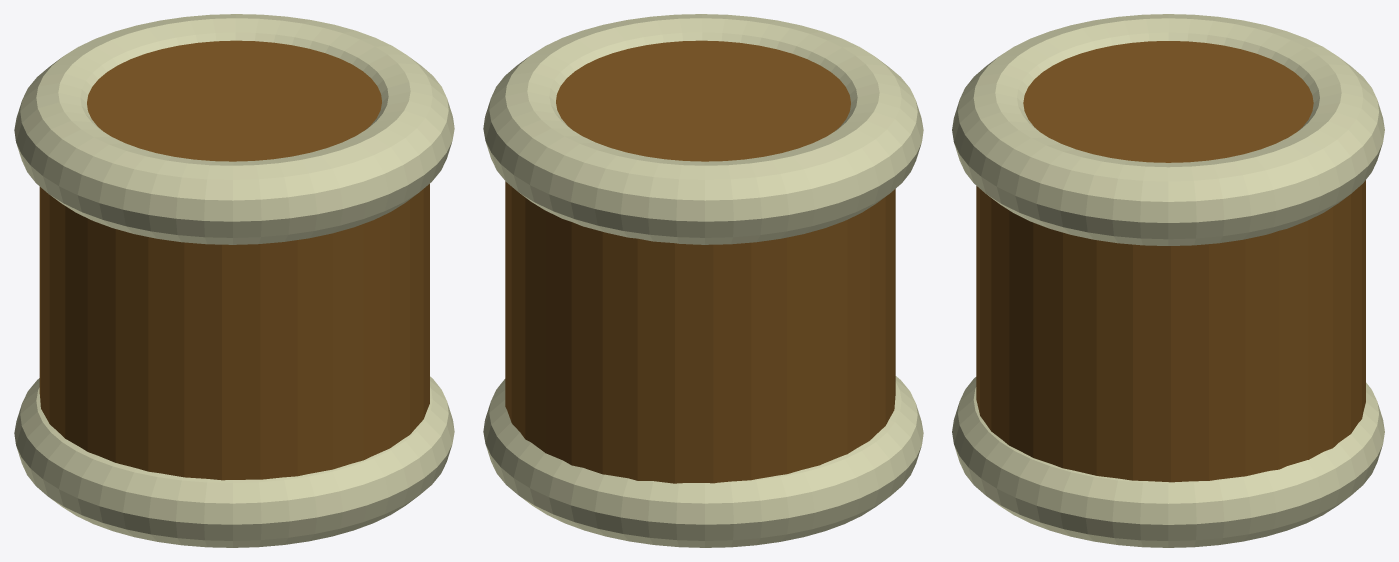
Rendered from bombo (1).fbx.
3 renders of one model, left to right at view 1: azimuth 30°, elevation 25°; view 2: azimuth 150°, elevation 25°; view 3: azimuth 270°, elevation 25°, orthographic.
Visible parts, largest first — view 1: Cilindro, Rosca, Rosca.001; view 2: Cilindro, Rosca, Rosca.001; view 3: Cilindro, Rosca, Rosca.001.
Part boxes in pixels (x1,y1,x2,y2): Cilindro: (39, 40, 429, 480); Rosca: (14, 14, 454, 244); Rosca.001: (14, 376, 454, 547); Cilindro: (505, 40, 895, 483); Rosca: (483, 14, 923, 244); Rosca.001: (483, 376, 923, 547); Cilindro: (976, 41, 1365, 482); Rosca: (952, 14, 1384, 245); Rosca.001: (952, 377, 1384, 547).
Bounding box in the file's own units: 457 × 431 × 450.
